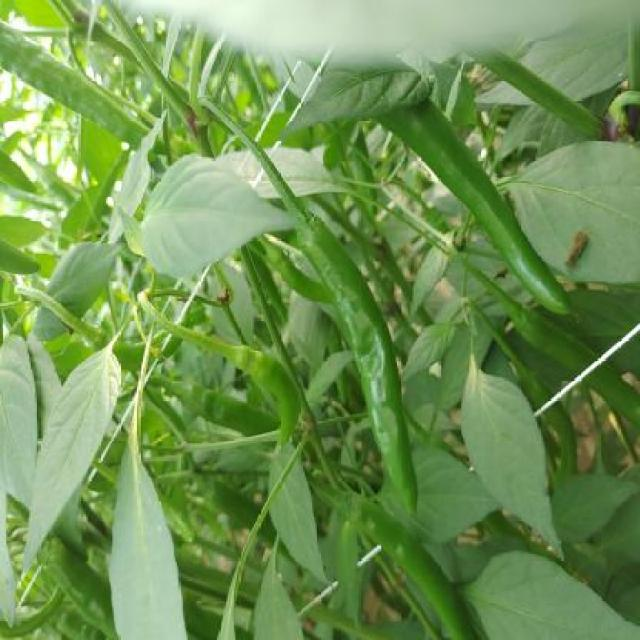green chilli: (226, 343, 300, 446)
